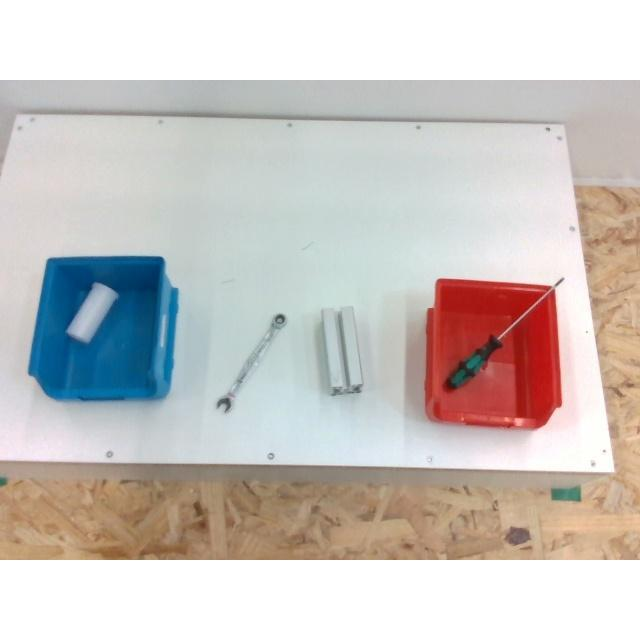S40_40_G: (322, 306, 362, 392)
Screwdriver: (444, 277, 564, 389)
Spacer: (66, 282, 118, 342)
Wrench: (218, 314, 286, 408)
container_box_blue: (29, 256, 177, 399)
container_box_red: (425, 278, 561, 427)
